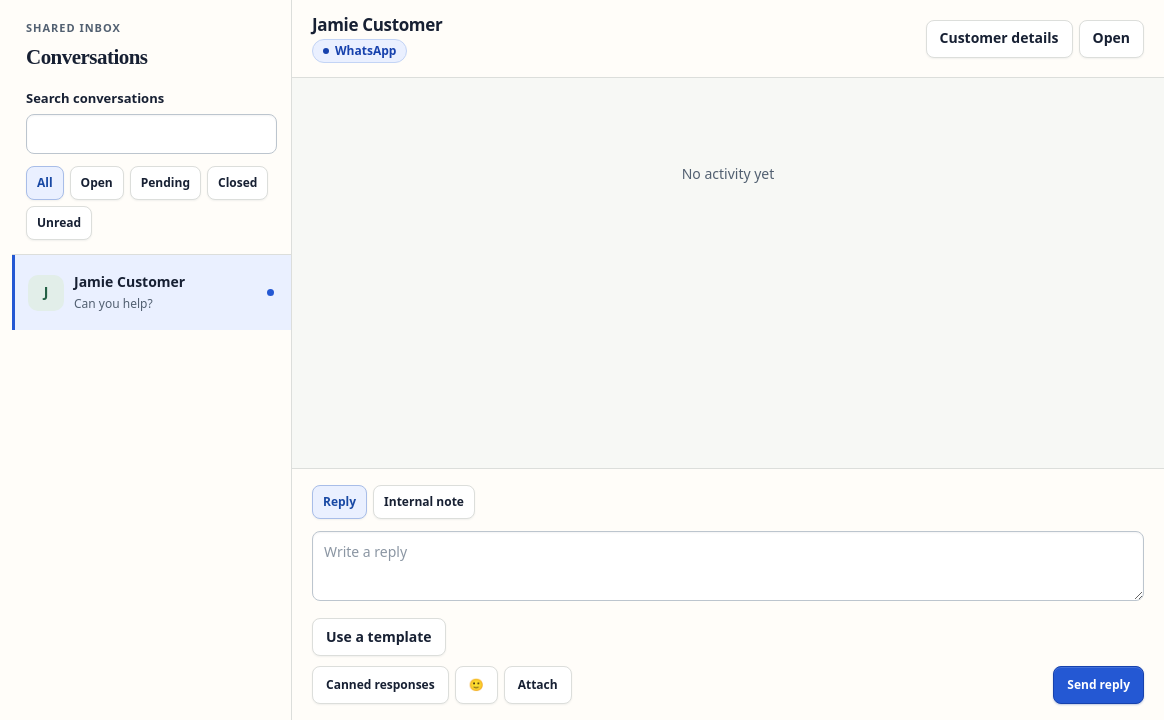
Test: conversation actions › rolls back optimistic replies when sending fails
This screenshot has width=1164, height=720.
Expected: the text "Jamie Customer" is shown, top-left (74, 272), bottom-right (185, 291)
Type "Hello?" into the text box named "Message" at {"x": 728, "y": 566}, box top-left (312, 531), bottom-right (1144, 601)
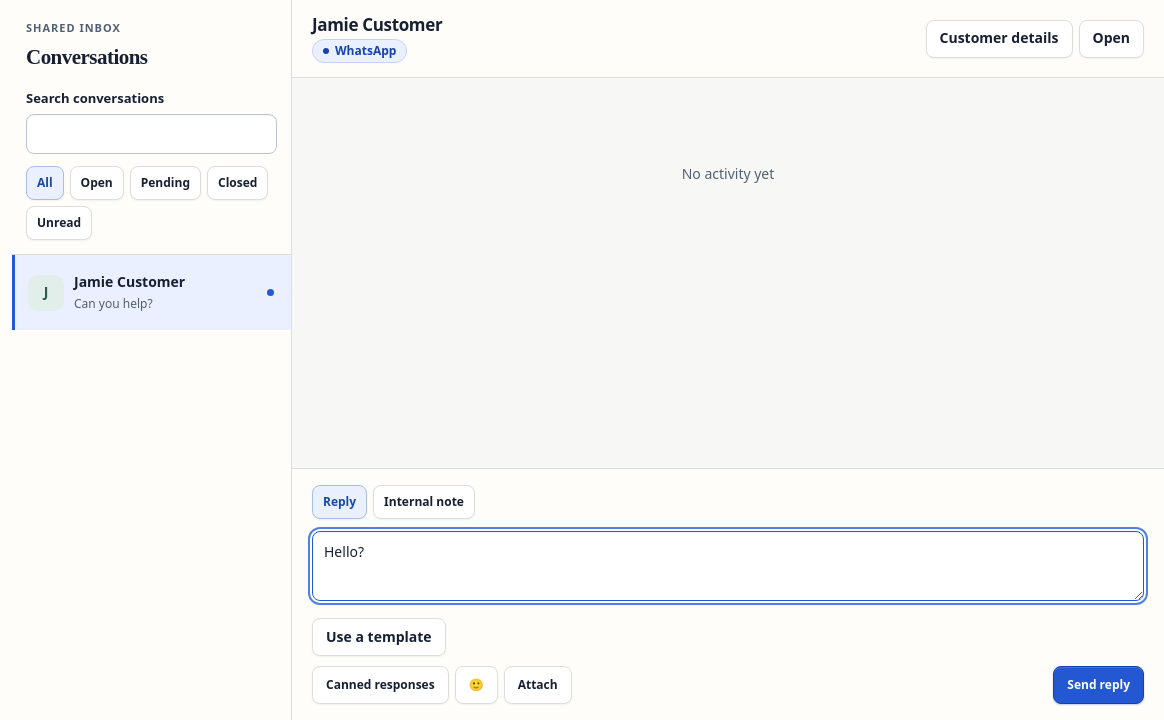
Click the button "Send reply" at {"x": 1099, "y": 685}, box top-left (1053, 666), bottom-right (1144, 704)
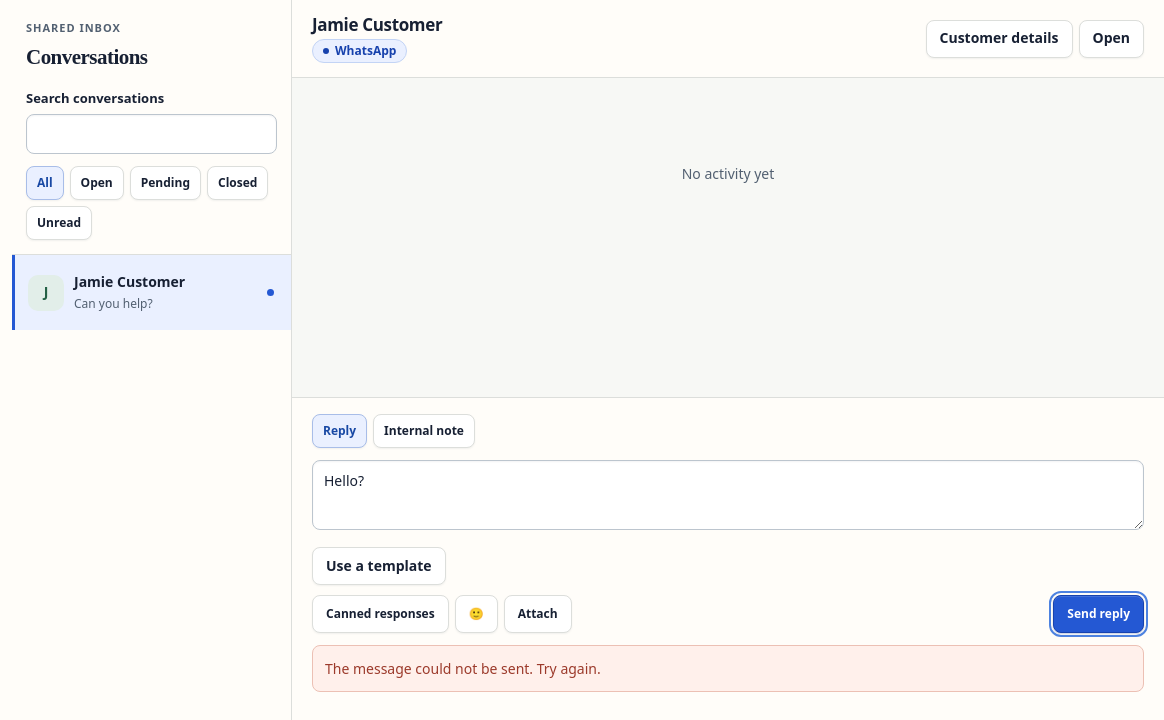
Expected: the message shows "The message could not be sent", top-left (325, 659), bottom-right (601, 678)
